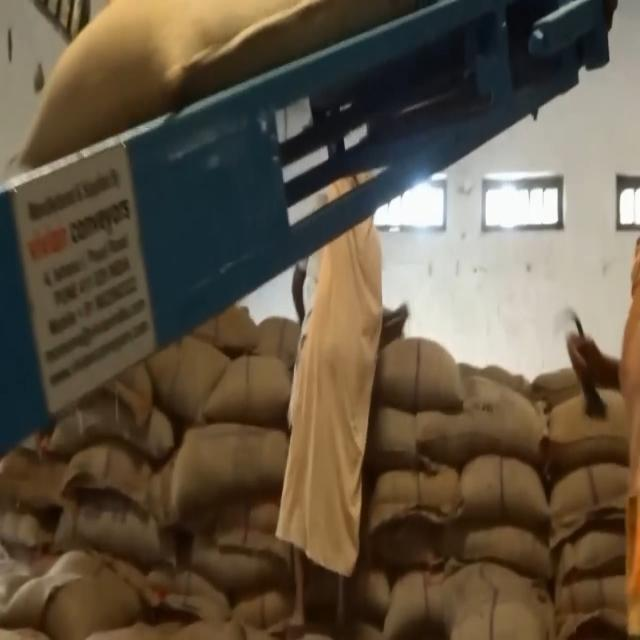gunny_bag: (8, 0, 452, 173)
